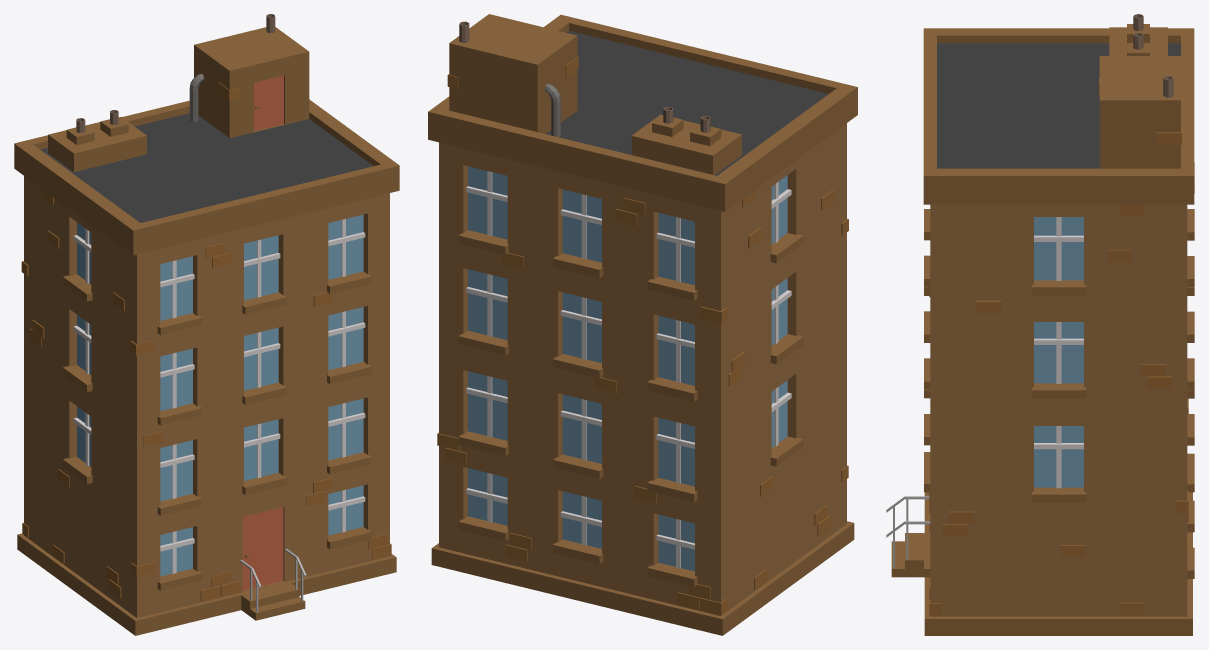
File: House_05.fbx
3 renders of one model, left to right at view 1: azimuth 30°, elevation 25°; view 2: azimuth 150°, elevation 25°; view 3: azimuth 270°, elevation 25°, orthographic. The views are drawn at different scales.
Parts seen in each view (by area): view 1: House_05; view 2: House_05; view 3: House_05.
Boxes of the visible parts, left/top/right/bottom form: House_05: left=14, top=14, right=399, bottom=635; House_05: left=428, top=14, right=857, bottom=635; House_05: left=886, top=14, right=1194, bottom=635.
Bounding box in the file's own units: 14.28 × 24.7 × 12.59.
